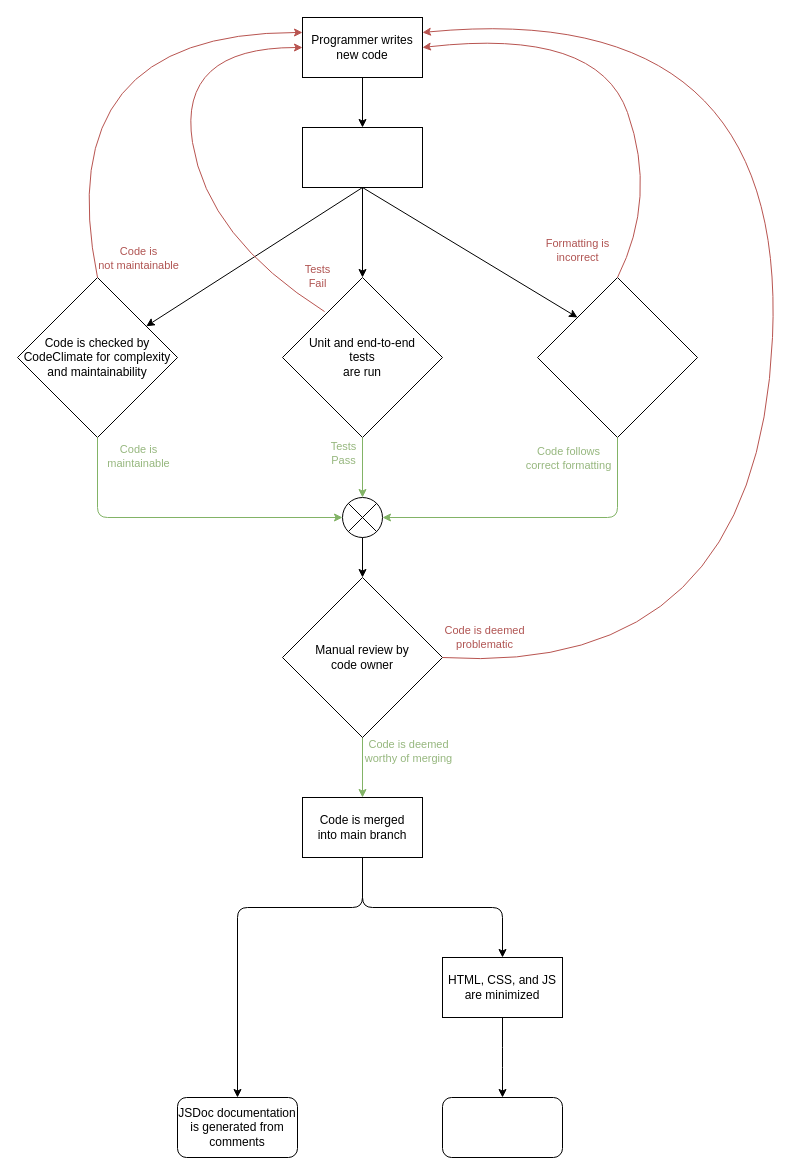
This 791x1175 diagram has some shape labels left out. The box of each missing label's shape, as (x1, y1, x2, y2) in pixels:
Code is checked for basic linting and styling: (536, 276, 698, 438)
Minimized code is deployed to Heroku: (442, 1096, 562, 1158)
Programmer creates new branch and corresponding PR: (302, 126, 422, 188)
